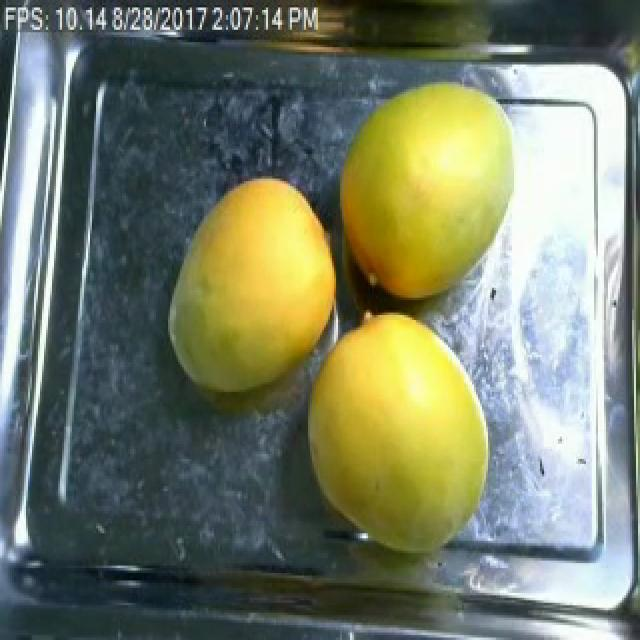fruit: (292, 300, 504, 568), (154, 169, 352, 407), (328, 74, 524, 310)
